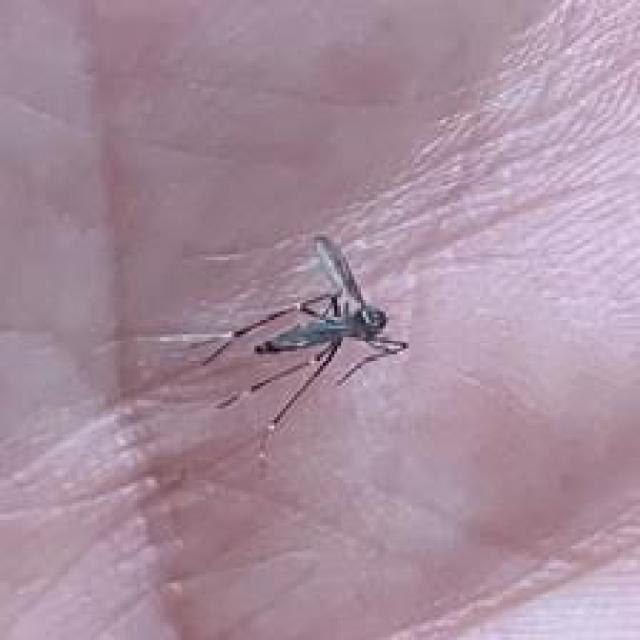Aedes albopictus: (190, 231, 410, 463)
